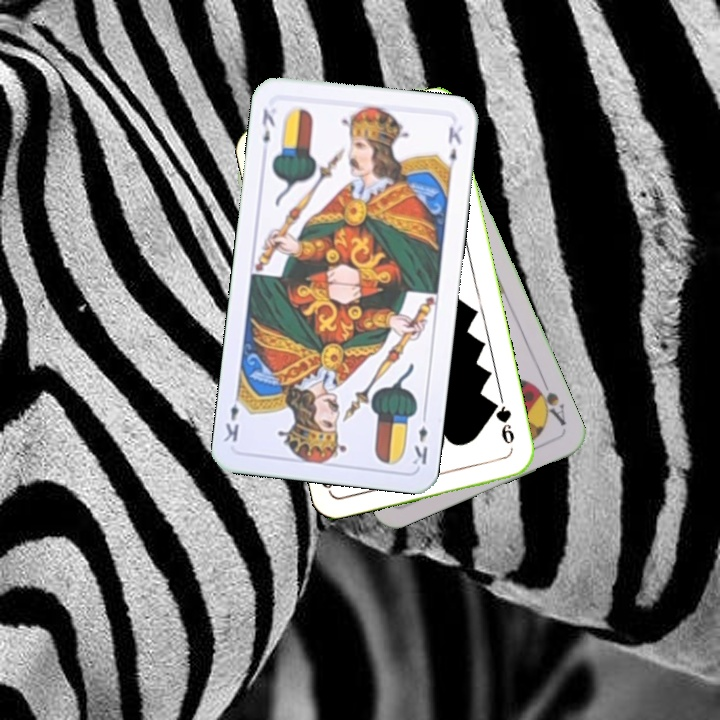EK: (409, 409, 430, 467), (258, 104, 278, 146)
G9: (488, 397, 517, 447)
SA: (528, 374, 569, 429)
